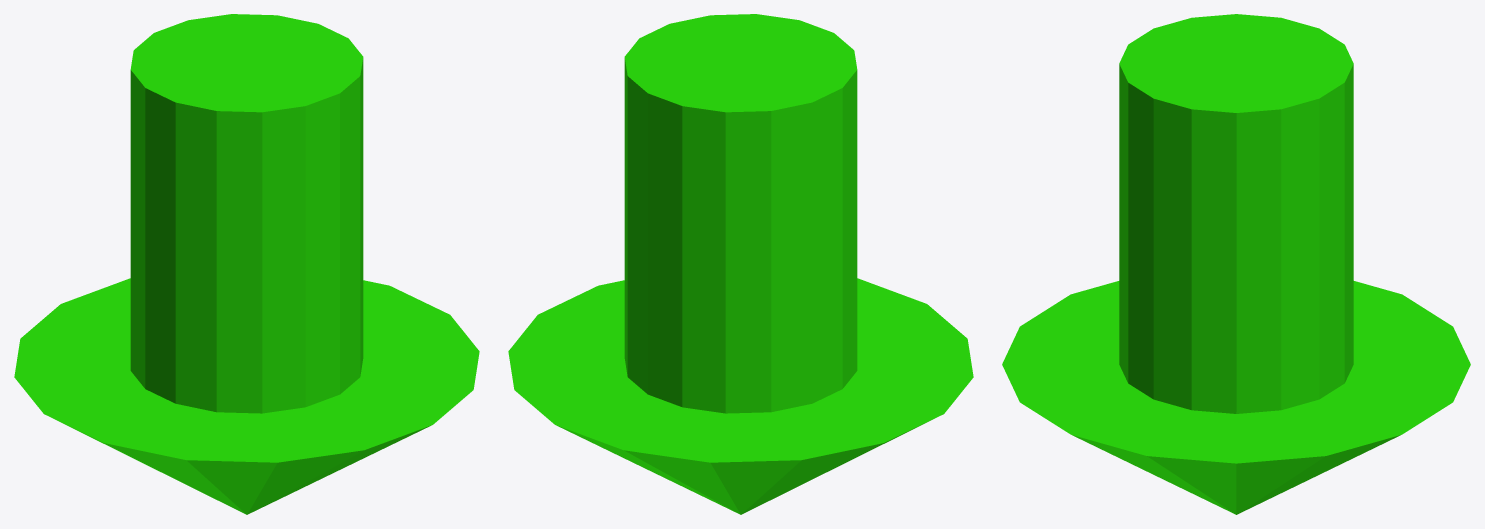
Rendered from arrow.fbx.
The picture shows the model from 3 angles, left to right: view 1: azimuth 30°, elevation 25°; view 2: azimuth 150°, elevation 25°; view 3: azimuth 270°, elevation 25°; orthographic projection.
Parts seen in each view (by area): view 1: Cylinder; view 2: Cylinder; view 3: Cylinder.
Part boxes in pixels (left/top/right/bottom): Cylinder: left=14, top=14, right=479, bottom=514; Cylinder: left=508, top=14, right=973, bottom=514; Cylinder: left=1002, top=14, right=1470, bottom=514.
Size of the model in its own units: 3293 by 3498 by 3293.
